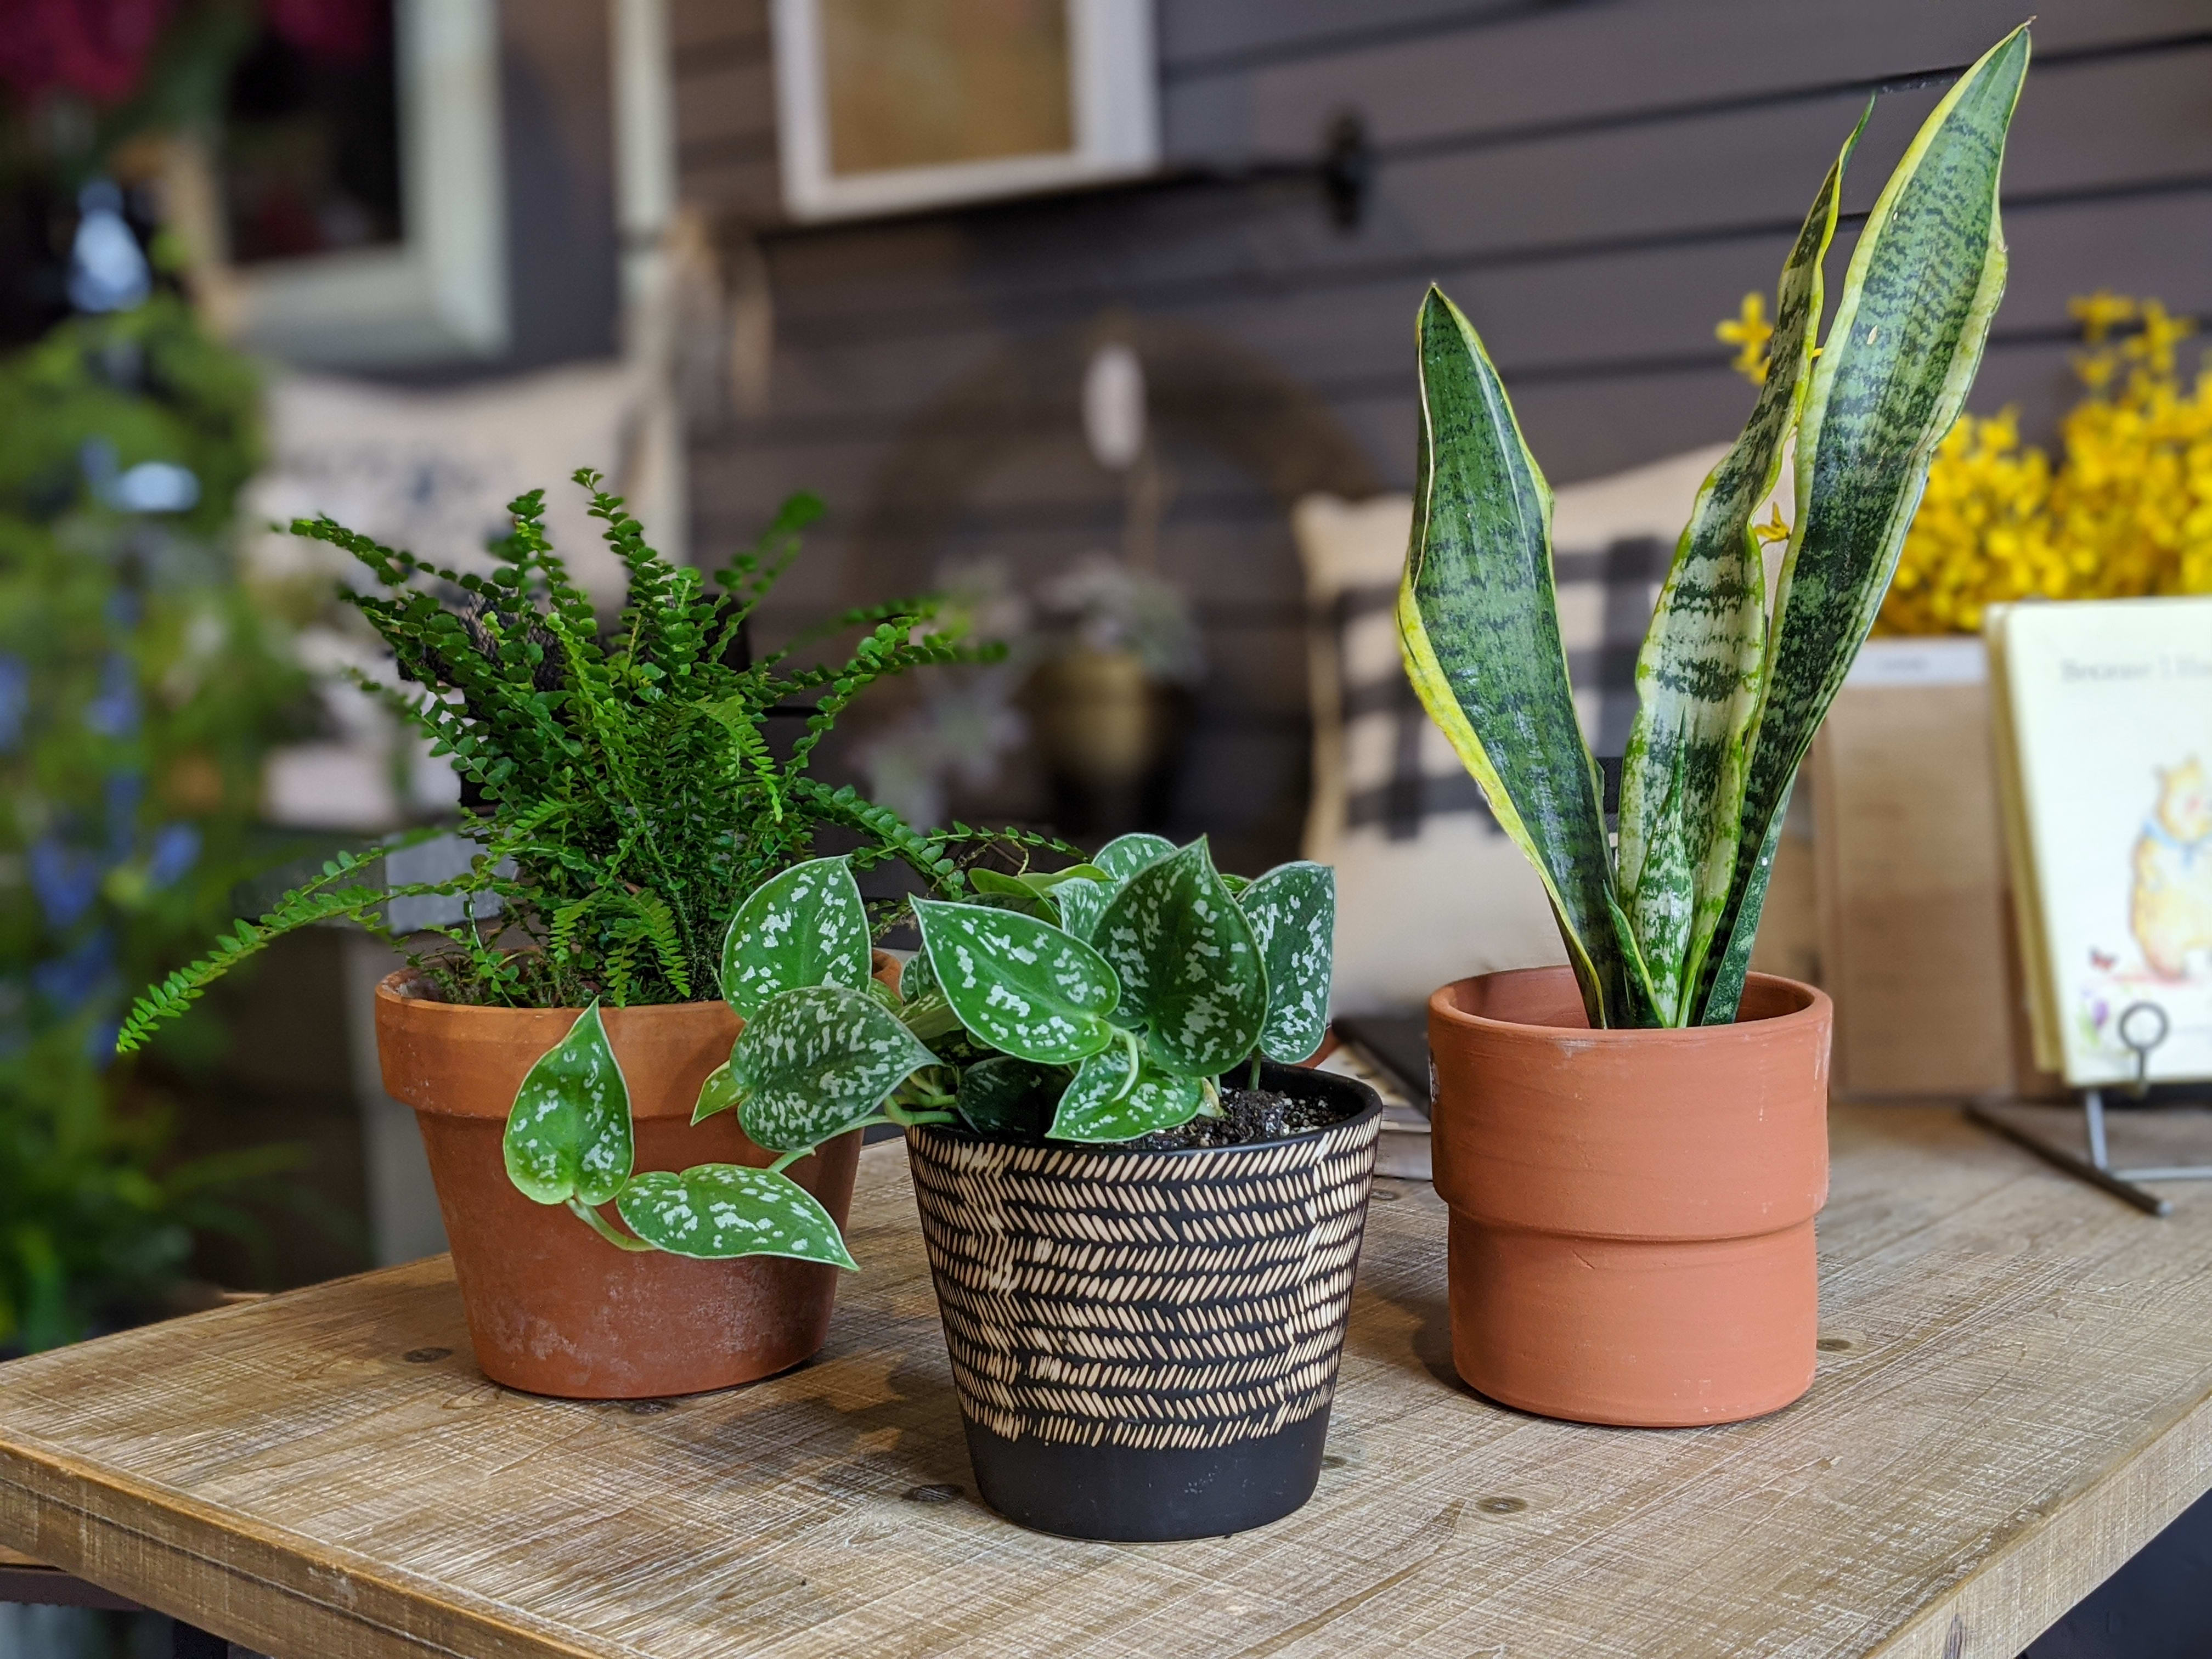tanaman: (1266, 223, 2000, 1445), (275, 505, 906, 1427), (745, 817, 1416, 1528)
